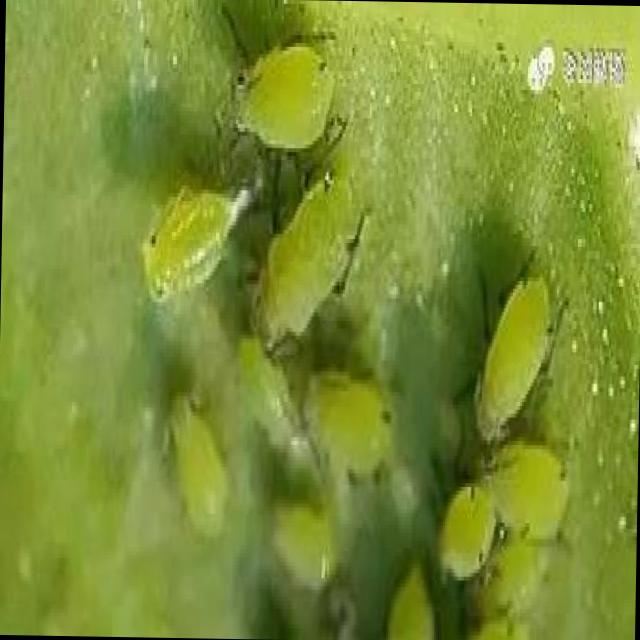Aphids: (240, 127, 382, 376), (442, 213, 580, 461), (203, 29, 345, 195), (134, 147, 236, 326), (154, 380, 234, 540), (477, 434, 581, 546), (296, 374, 404, 472), (274, 499, 344, 608), (432, 469, 499, 580)
